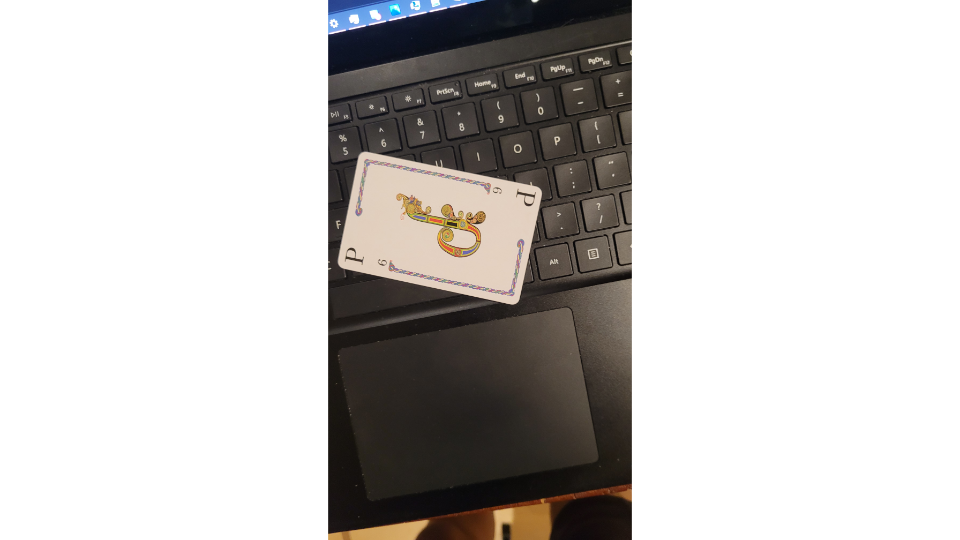P: (336, 147, 545, 308)
